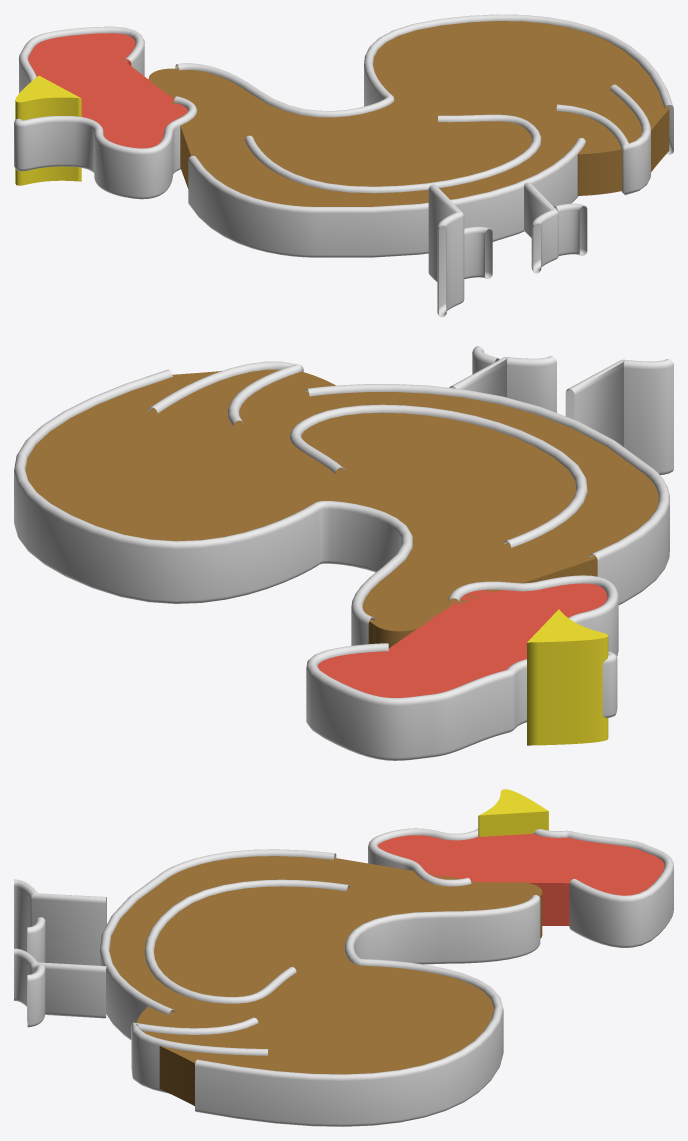
File: rooster.fbx
3 views of the same model, one above another, from view 1: azimuth 30°, elevation 25°; view 2: azimuth 150°, elevation 25°; view 3: azimuth 270°, elevation 25° (orthographic). The views are drawn at different scales.
Visible parts, largest first — view 1: Curve, Curve.011, Curve.009, Curve.001, Curve.010, Curve.004, Curve.008, Curve.002, Curve.003, Curve.006, Curve.007, Curve.005; view 2: Curve, Curve.010, Curve.009, Curve.001, Curve.002, Curve.004, Curve.011, Curve.008, Curve.006, Curve.003; view 3: Curve, Curve.010, Curve.001, Curve.009, Curve.004, Curve.011, Curve.006, Curve.003, Curve.008, Curve.002, Curve.007, Curve.005.
Boxes of the visible parts, x1,y1,x2,y2 form: Curve: (148,21,669,206); Curve.011: (188,138,585,257); Curve.009: (14,26,197,199); Curve.001: (28,33,187,148); Curve.010: (175,14,673,154); Curve.004: (428,184,464,317); Curve.008: (244,114,541,193); Curve.002: (15,75,81,185); Curve.003: (556,84,650,195); Curve.006: (524,182,558,273); Curve.007: (554,203,587,255); Curve.005: (464,226,492,278); Curve: (25,369,658,648); Curve.010: (14,369,412,645); Curve.009: (306,575,618,760); Curve.001: (317,583,607,697); Curve.002: (527,609,608,745); Curve.004: (565,359,673,475); Curve.011: (306,384,669,604); Curve.008: (290,404,587,547); Curve.006: (449,356,556,412); Curve.003: (148,361,303,426); Curve: (109,856,542,1105); Curve.010: (195,895,540,1126); Curve.001: (377,833,664,926); Curve.009: (368,828,673,947); Curve.004: (14,879,106,965); Curve.011: (100,849,336,1039); Curve.006: (14,948,106,1018); Curve.003: (131,1017,268,1093); Curve.008: (144,879,349,1003); Curve.002: (478,789,548,836); Curve.007: (27,964,45,1027); Curve.005: (27,917,45,962).
Size of the model in its own units: 1.36 by 0.22 by 1.39.
